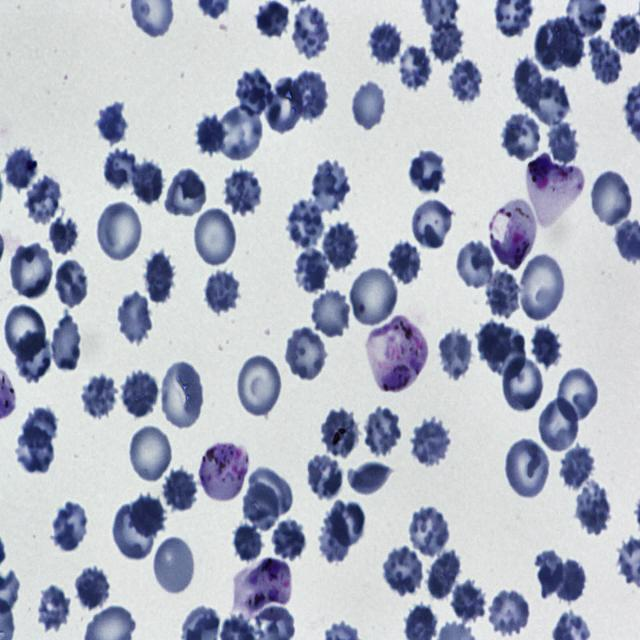difficult: (199, 442, 248, 502)
red blood cell: (348, 264, 401, 330), (159, 359, 206, 432), (518, 251, 566, 322), (95, 200, 144, 264), (504, 436, 552, 501), (236, 352, 283, 418), (191, 205, 239, 268), (127, 422, 174, 484), (8, 239, 55, 301), (152, 534, 197, 597), (589, 168, 634, 229), (477, 322, 526, 378), (501, 355, 546, 414), (536, 396, 580, 454), (284, 325, 328, 382), (5, 304, 49, 361), (410, 197, 456, 251), (525, 74, 571, 128), (218, 104, 262, 160), (111, 505, 155, 561), (288, 3, 329, 63), (310, 160, 353, 216), (558, 366, 600, 422), (318, 406, 360, 462), (454, 236, 496, 292), (380, 544, 425, 596), (265, 78, 306, 134), (408, 415, 452, 466), (115, 290, 155, 346), (284, 198, 326, 251), (14, 329, 54, 384), (548, 16, 588, 71), (249, 466, 293, 516), (500, 112, 543, 163), (163, 167, 206, 218), (436, 327, 475, 383), (310, 288, 352, 339), (488, 587, 532, 635), (409, 507, 450, 558), (222, 168, 264, 217), (201, 268, 243, 317), (364, 408, 405, 458), (50, 501, 90, 552), (290, 69, 330, 120), (574, 478, 609, 536), (326, 498, 368, 546), (406, 149, 448, 197), (16, 422, 54, 475), (234, 66, 273, 117), (305, 450, 344, 500), (128, 491, 168, 539), (53, 257, 90, 308), (322, 221, 360, 270), (121, 371, 159, 420), (73, 564, 111, 613), (534, 24, 574, 70), (586, 38, 624, 86), (24, 175, 62, 223), (558, 443, 596, 491), (485, 269, 521, 319), (512, 56, 543, 114), (549, 557, 588, 603), (368, 19, 407, 65), (143, 251, 176, 305), (51, 310, 80, 371), (427, 15, 464, 62), (352, 81, 386, 132), (163, 466, 199, 514), (318, 511, 351, 563), (398, 44, 433, 92), (243, 484, 279, 530), (271, 517, 307, 562), (427, 549, 460, 598), (448, 58, 483, 104), (130, 160, 164, 207), (4, 146, 38, 192), (547, 120, 581, 166), (449, 579, 486, 621), (82, 375, 118, 418), (22, 405, 58, 448), (348, 462, 394, 494), (39, 585, 70, 632), (535, 551, 565, 599), (295, 246, 326, 292), (255, 1, 290, 40), (390, 239, 421, 283), (531, 324, 562, 368), (96, 101, 128, 143), (104, 149, 137, 189), (194, 114, 226, 155), (232, 520, 262, 562), (48, 216, 78, 256)
trophozoite: (366, 315, 428, 396), (525, 154, 585, 228), (490, 198, 538, 270), (238, 558, 293, 614)
